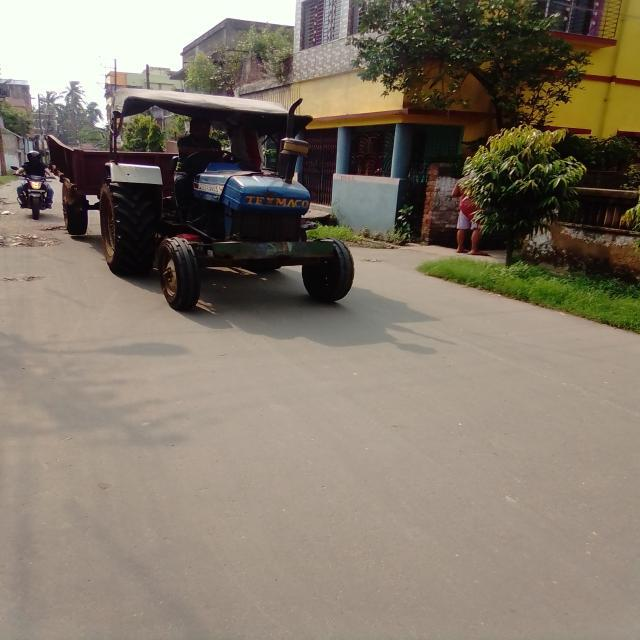Tratores - v5 YOLO V8L 2024-11-13: (102, 90, 367, 316)
